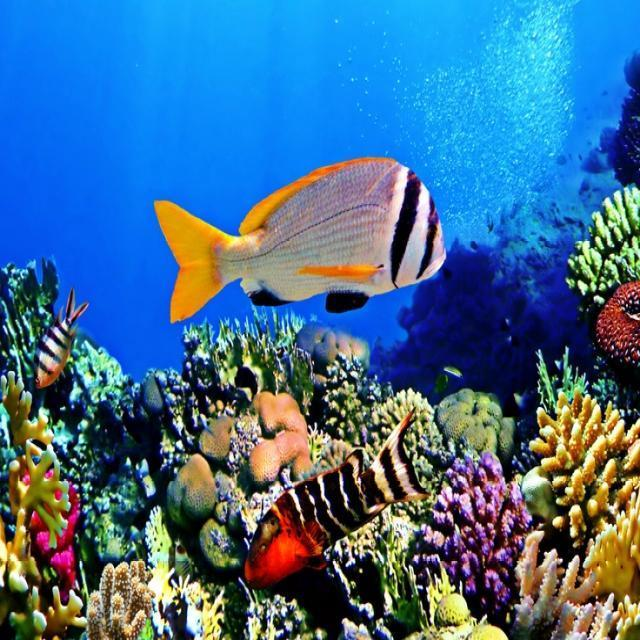Healthy Coral: (2, 391, 240, 625), (423, 383, 640, 639)
